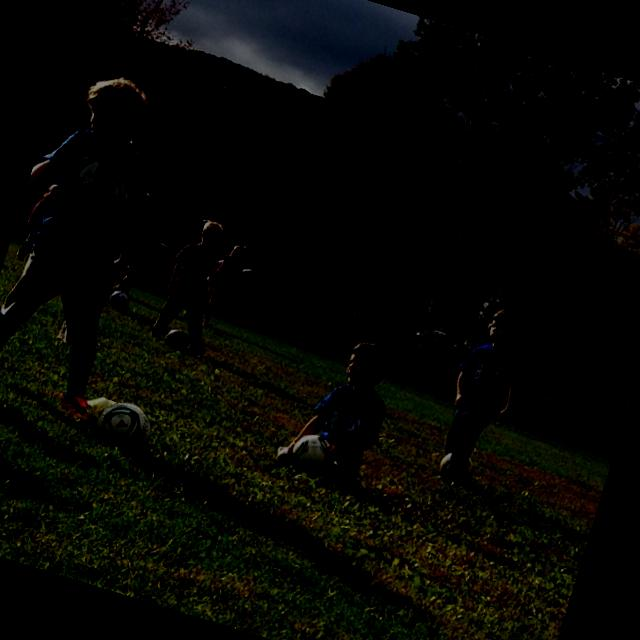Vehicle: (230, 264, 316, 314), (416, 326, 474, 372), (146, 234, 178, 264)
